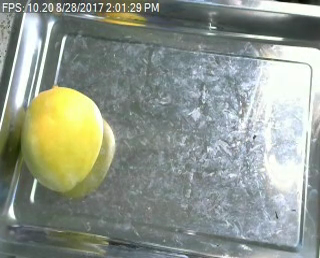Mango: (21, 86, 104, 190)
